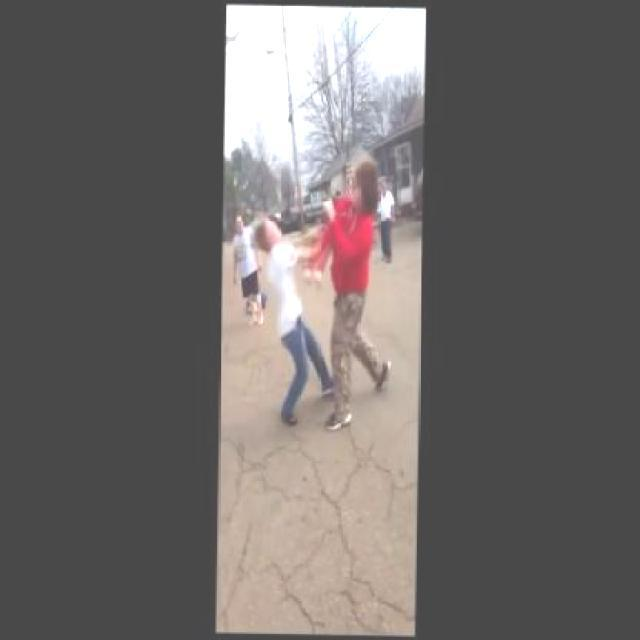fight: (258, 152, 380, 326)
non-fight: (228, 213, 256, 296), (380, 174, 394, 242)
